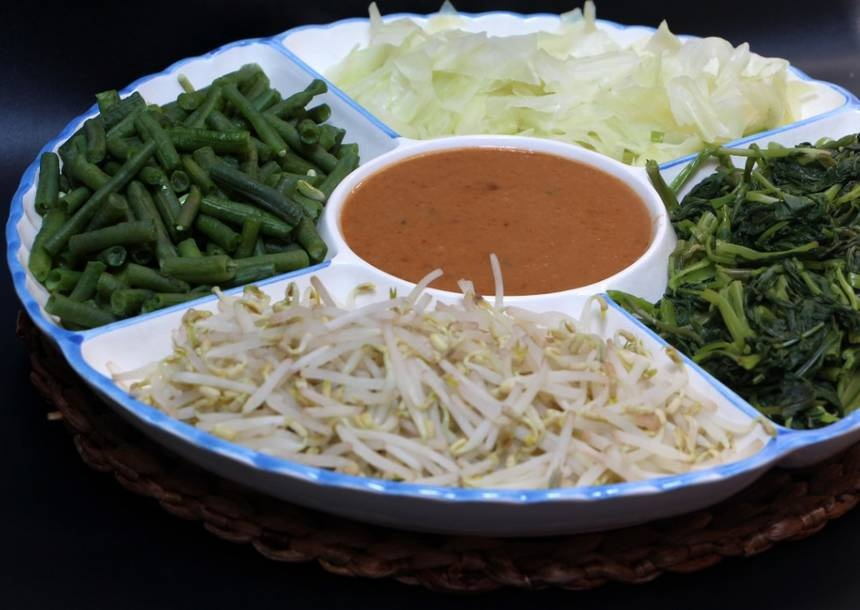pecel: (38, 7, 851, 465)
